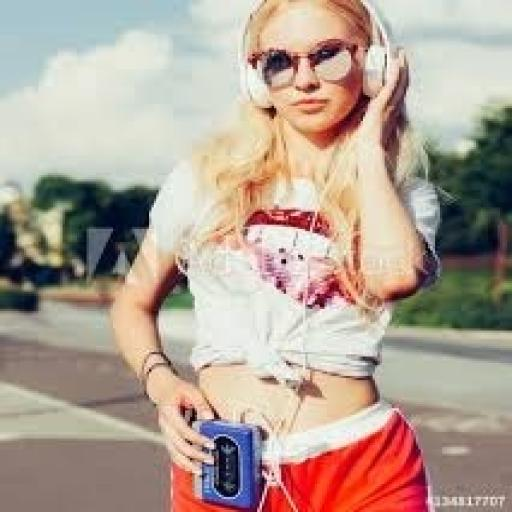listening_to_music: (108, 0, 447, 510)
